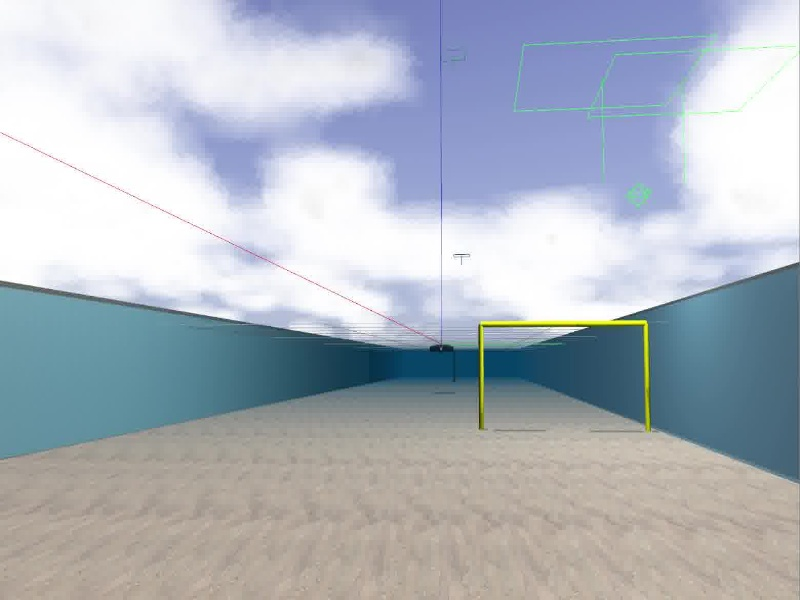gate: (478, 320, 649, 431)
